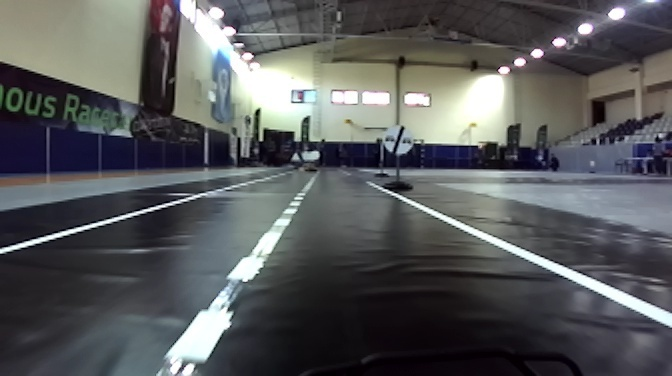sollama_serbest: (380, 124, 414, 156)
